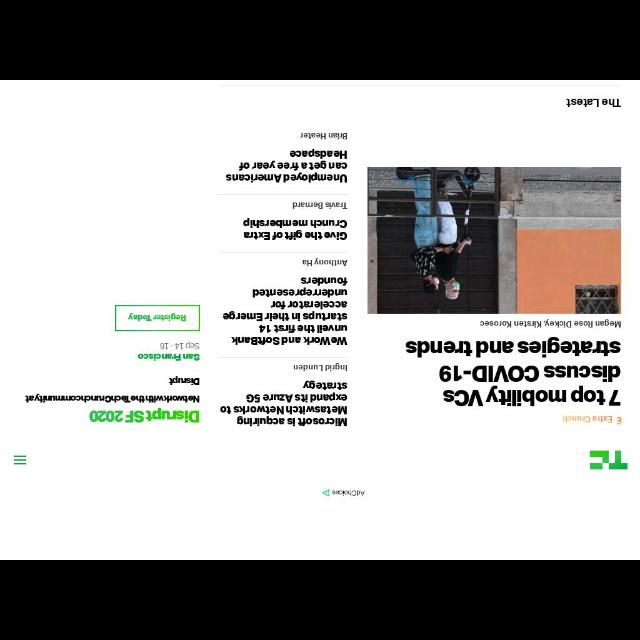icon: (13, 454, 27, 466)
image: (366, 167, 622, 313), (588, 450, 628, 470), (322, 488, 330, 496)
text: (405, 337, 621, 407), (222, 276, 348, 346), (220, 380, 348, 426), (24, 376, 200, 402), (226, 148, 348, 184), (242, 218, 348, 240), (89, 408, 200, 422), (480, 318, 620, 328), (138, 341, 200, 362), (562, 415, 622, 425), (128, 312, 186, 322), (566, 98, 620, 108), (293, 362, 347, 372), (302, 256, 348, 266), (299, 131, 347, 139), (292, 202, 348, 208), (332, 488, 366, 496)
textbutton: (115, 305, 199, 331)
